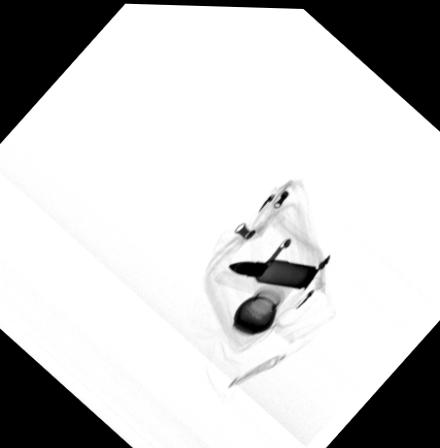Bullet: (226, 254, 322, 289)
